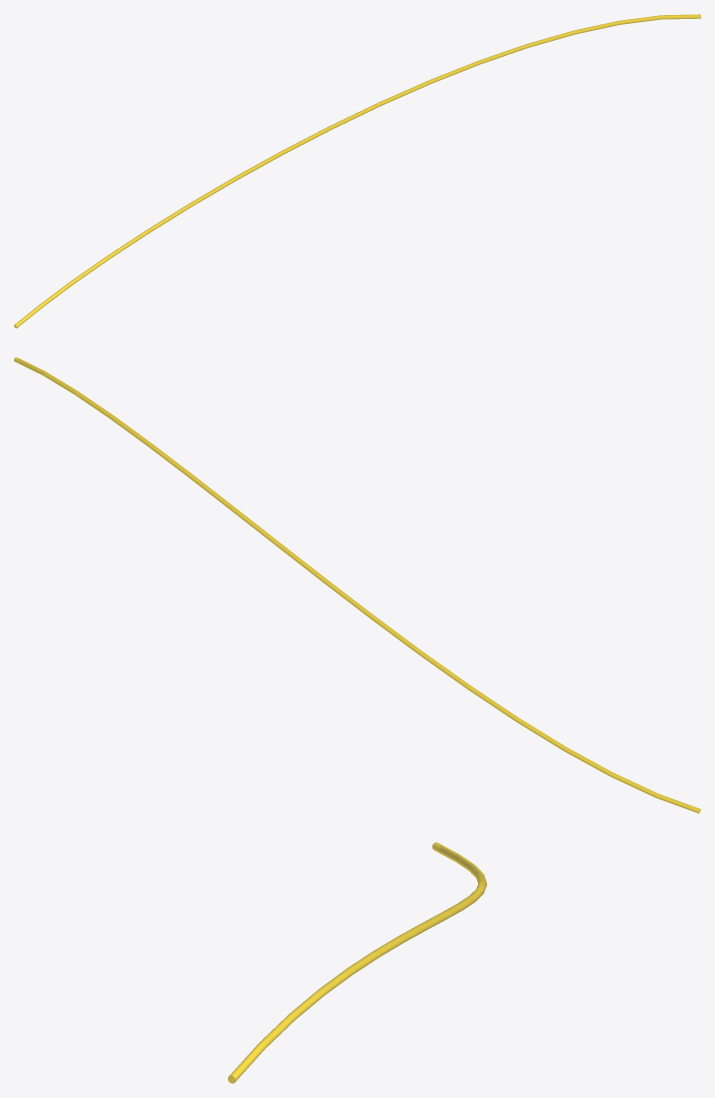
File: Event_402970704_track_27.fbx
The picture shows the model from 3 angles, top to bottom: view 1: azimuth 30°, elevation 25°; view 2: azimuth 150°, elevation 25°; view 3: azimuth 270°, elevation 25°; orthographic projection. The views are drawn at different scales.
Parts seen in each view (by area): view 1: Model; view 2: Model; view 3: Model.
Part boxes in pixels (bbox=[...]): Model: bbox=[14, 14, 700, 328]; Model: bbox=[14, 357, 700, 813]; Model: bbox=[228, 842, 486, 1083].
Bounding box in the file's own units: 6.79 × 2.02 × 1.2.
